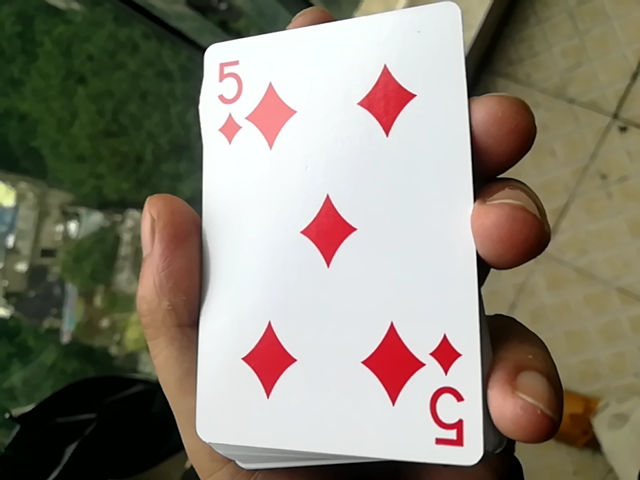fk 5: (179, 0, 488, 460)
